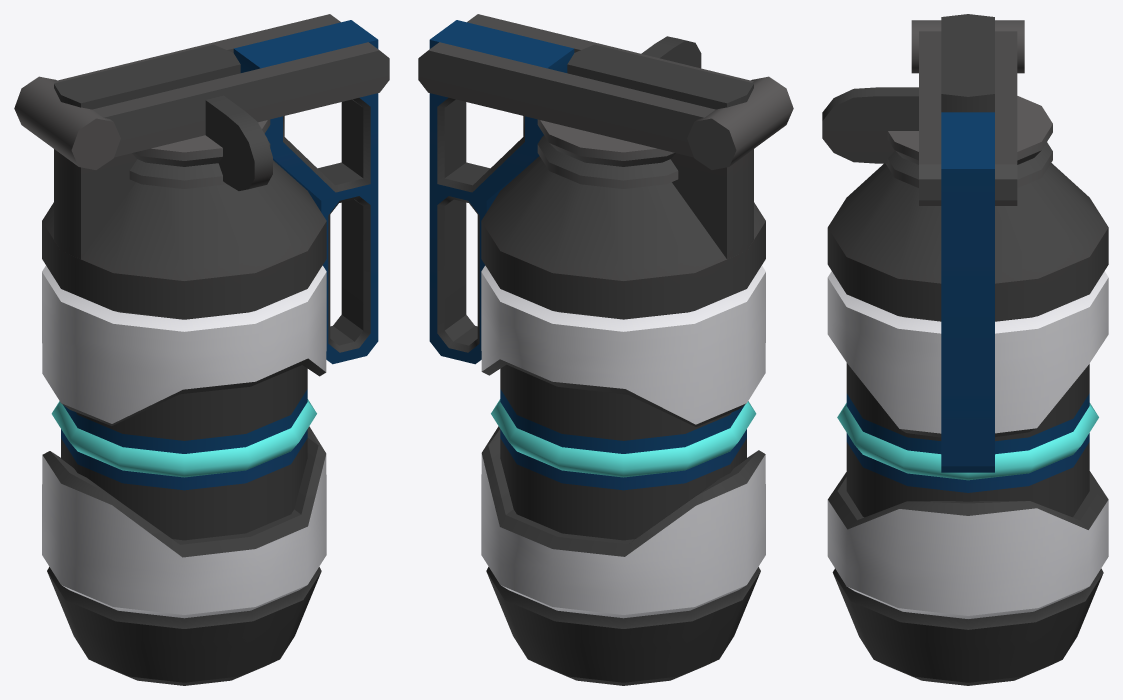
The model's file is Grenade_Smoke_02.fbx.
3 renders of one model, left to right at view 1: azimuth 30°, elevation 25°; view 2: azimuth 150°, elevation 25°; view 3: azimuth 270°, elevation 25°, orthographic.
Visible parts, largest first — view 1: Grenade_Smoke_02; view 2: Grenade_Smoke_02; view 3: Grenade_Smoke_02.
Part boxes in pixels (box(x1,y1,x2,y2)): Grenade_Smoke_02: box(14, 14, 389, 685); Grenade_Smoke_02: box(418, 14, 793, 685); Grenade_Smoke_02: box(822, 14, 1108, 685).
Bounding box in the file's own units: 9.27 × 16 × 7.24.
